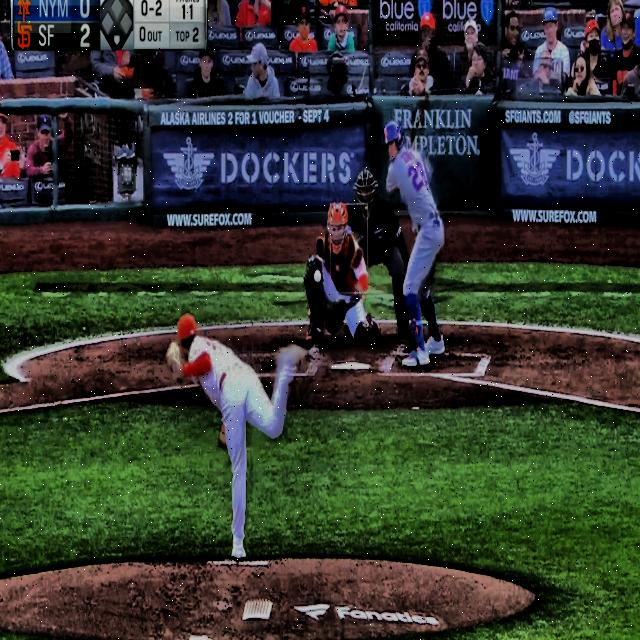baseball: (313, 269, 323, 284)
